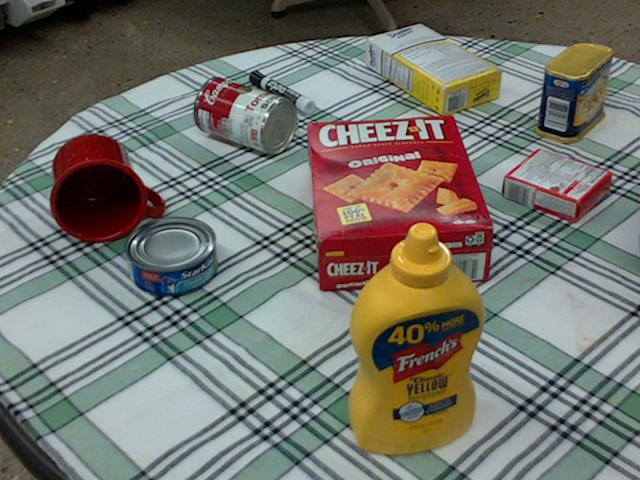cracker_box: (309, 115, 494, 288)
gelatin_box: (501, 148, 608, 220)
large_marker: (248, 70, 313, 112)
mug: (50, 134, 161, 242)
mustard_bottle: (350, 221, 487, 452)
potted_meat_can: (533, 43, 610, 143)
sugar_box: (365, 24, 503, 115)
tomato_soup_can: (192, 75, 296, 152)
tuna_fish_can: (122, 215, 216, 295)
